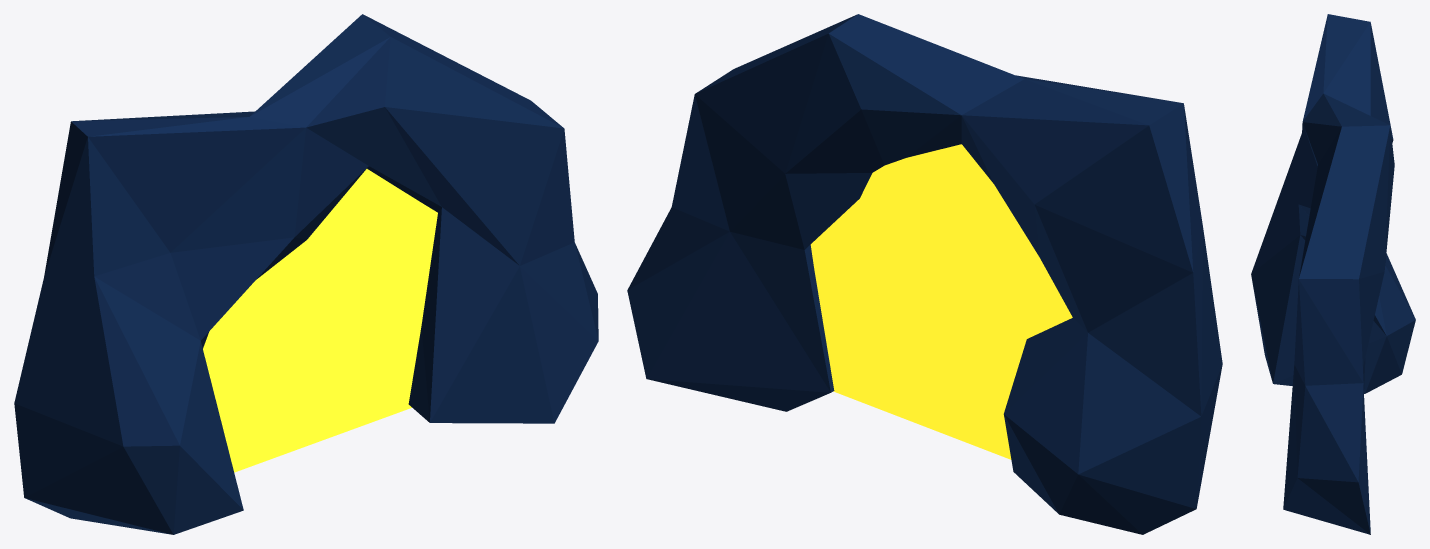
Rendered from Stone_portal.glb.
The picture shows the model from 3 angles, left to right: view 1: azimuth 30°, elevation 25°; view 2: azimuth 150°, elevation 25°; view 3: azimuth 270°, elevation 25°; orthographic projection. The views are drawn at different scales.
Parts seen in each view (by area): view 1: Stone_portal; view 2: Stone_portal; view 3: Stone_portal.
Part boxes in pixels (x1,y1,x2,y2): Stone_portal: (14,14,598,534); Stone_portal: (627,14,1222,534); Stone_portal: (1251,14,1415,534).
Bounding box in the file's own units: 2.4 × 1.7 × 0.7102.
